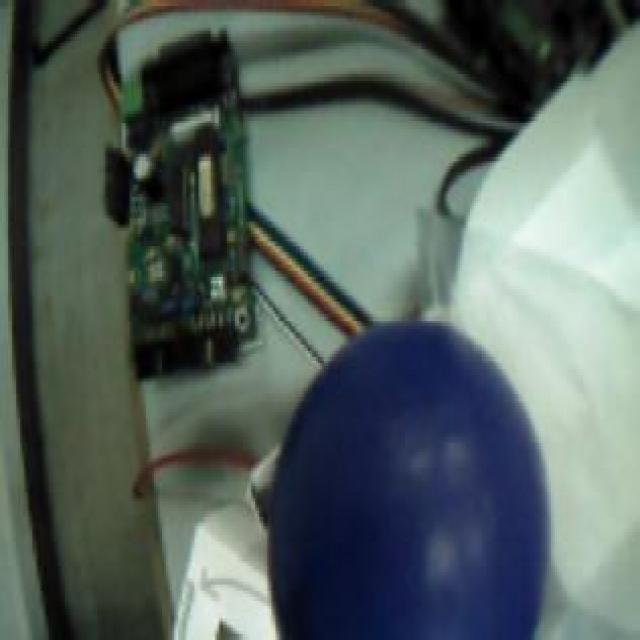BallPurple: (265, 319, 548, 640)
